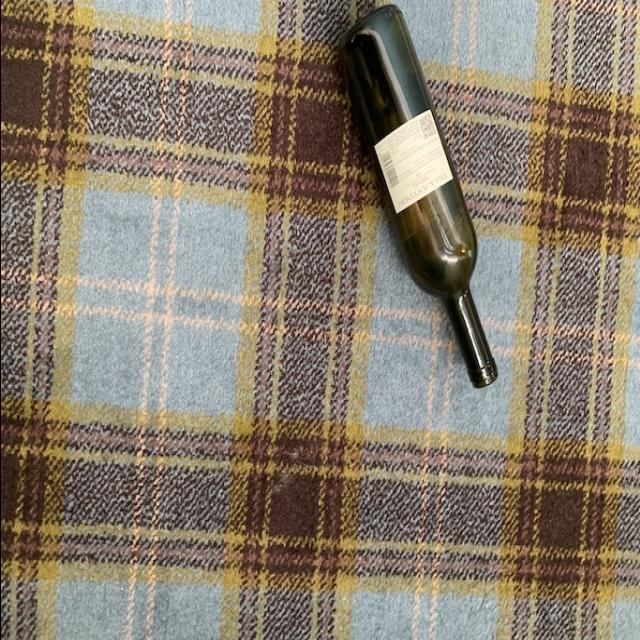Glass Bottle: (342, 1, 496, 395)
